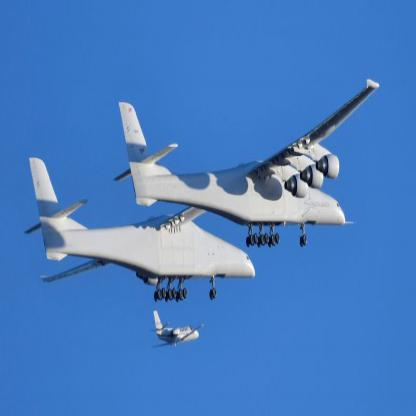CIV_Plane: (22, 78, 382, 302), (148, 306, 205, 356)
